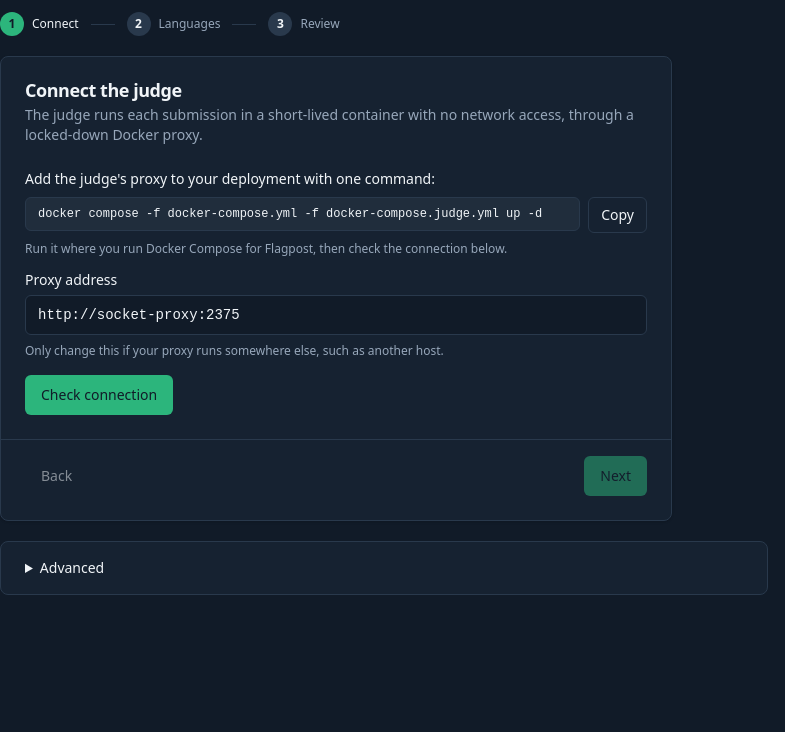
Scenario: JudgeSettingsPanel — setup wizard (judge off) › won't continue past an unrestricted proxy
Expected: the button "Next" is disabled, [584, 456, 647, 496]
Step 1. Click the button "Check connection" → (99, 395), box [25, 375, 173, 415]
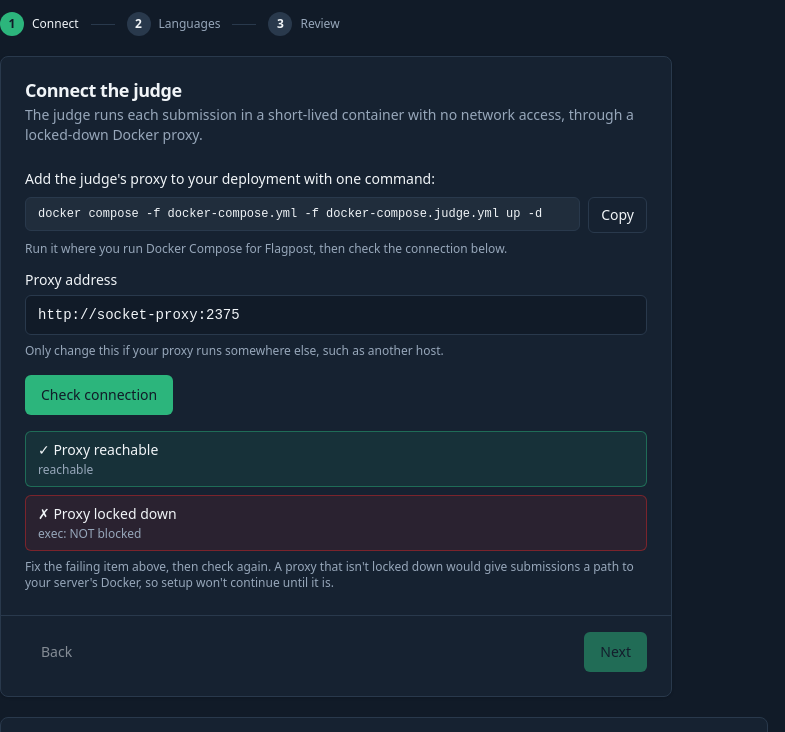
Expected: the button "Next" is disabled, [584, 632, 647, 672]
Expected: the text "✗ Proxy locked down" is shown, [38, 504, 177, 523]
